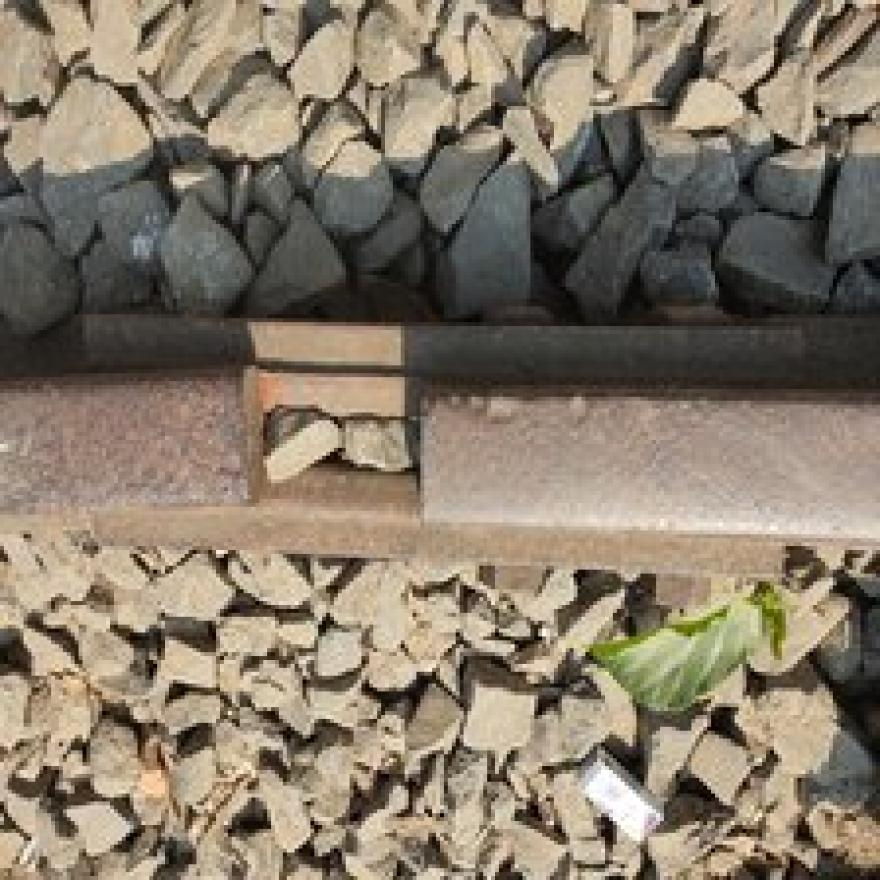railway-gap: (190, 316, 496, 583)
